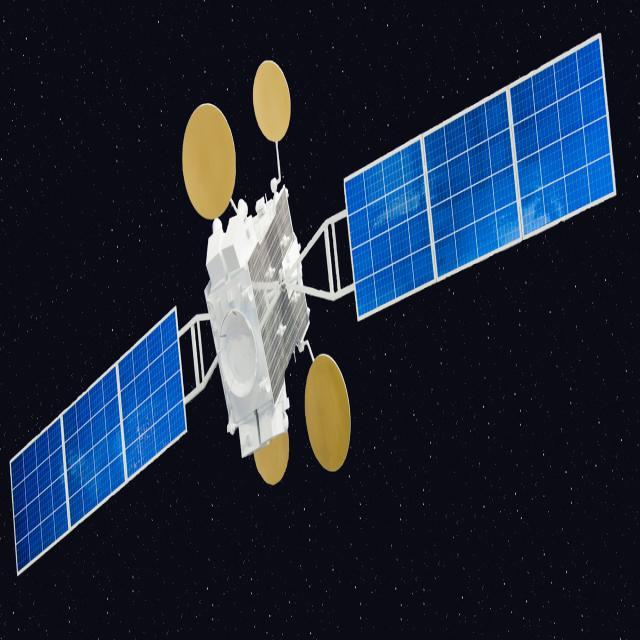sat: (11, 26, 615, 573)
